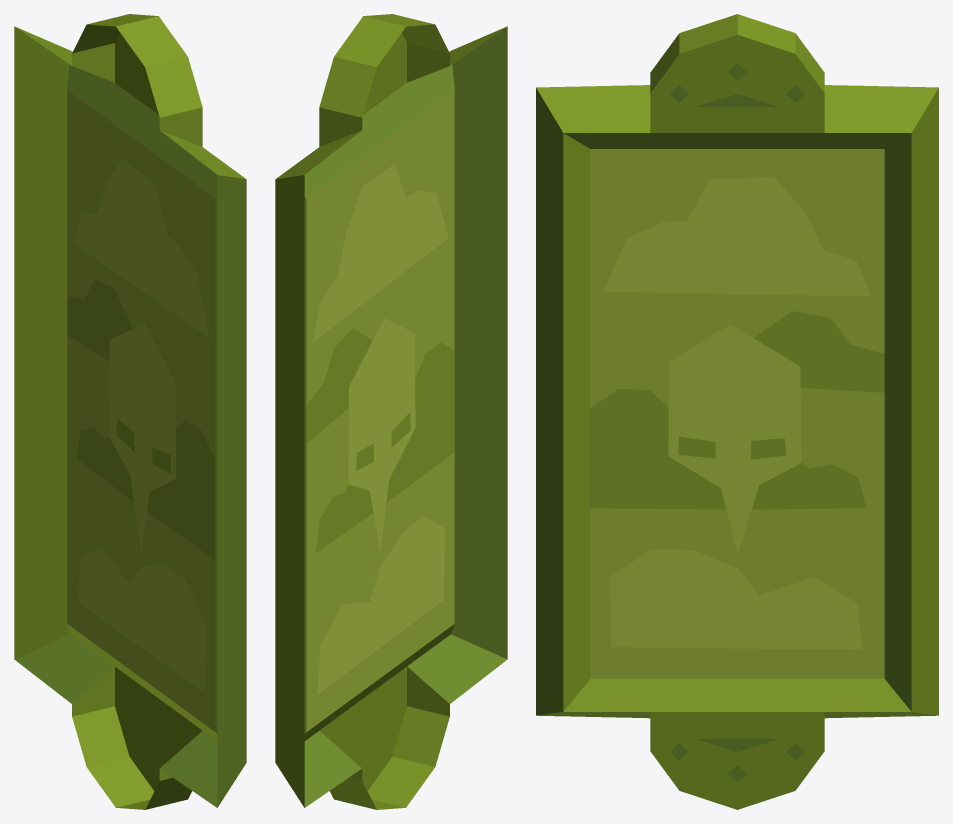
File: spiritPainting.fbx
3 renders of one model, left to right at view 1: azimuth 30°, elevation 25°; view 2: azimuth 150°, elevation 25°; view 3: azimuth 270°, elevation 25°, orthographic.
Parts seen in each view (by area): view 1: Mesh_SpiritPainting; view 2: Mesh_SpiritPainting; view 3: Mesh_SpiritPainting.
Part boxes in pixels (x1,y1,x2,y2): Mesh_SpiritPainting: (14,14,246,809); Mesh_SpiritPainting: (275,14,507,809); Mesh_SpiritPainting: (536,14,938,809).
Size of the model in its own units: 0.3474 by 2.77 by 5.89.
